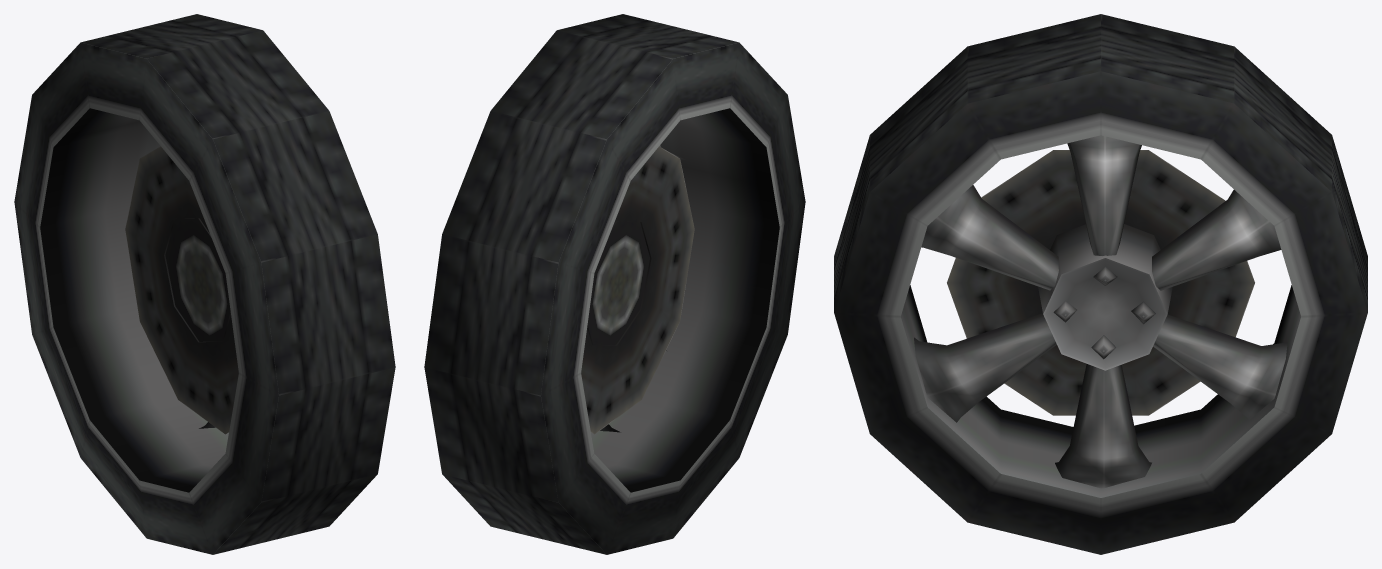
File: wheel_sr6.glb
3 views of the same model, side by side, from view 1: azimuth 30°, elevation 25°; view 2: azimuth 150°, elevation 25°; view 3: azimuth 270°, elevation 25° (orthographic).
Parts seen in each view (by area): view 1: wheel_sr6; view 2: wheel_sr6; view 3: wheel_sr6.
Part boxes in pixels (box(x1,y1,x2,y2)): wheel_sr6: box(14, 14, 395, 554); wheel_sr6: box(424, 14, 805, 554); wheel_sr6: box(834, 14, 1367, 554).
Size of the model in its own units: 0.2959 by 0.9843 by 0.9843.
Materials: 2 (2 with a texture image).
